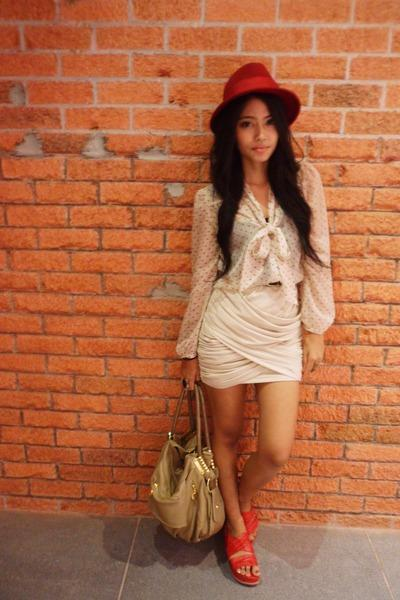bag: (142, 427, 224, 542)
dress: (176, 157, 335, 388)
hat: (218, 62, 293, 127)
shoe: (218, 516, 259, 586)
